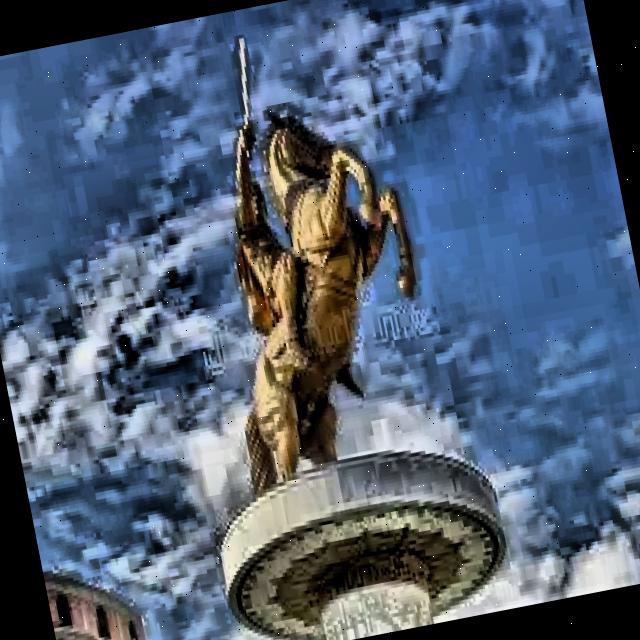alexander the great monument: (113, 0, 523, 640)
